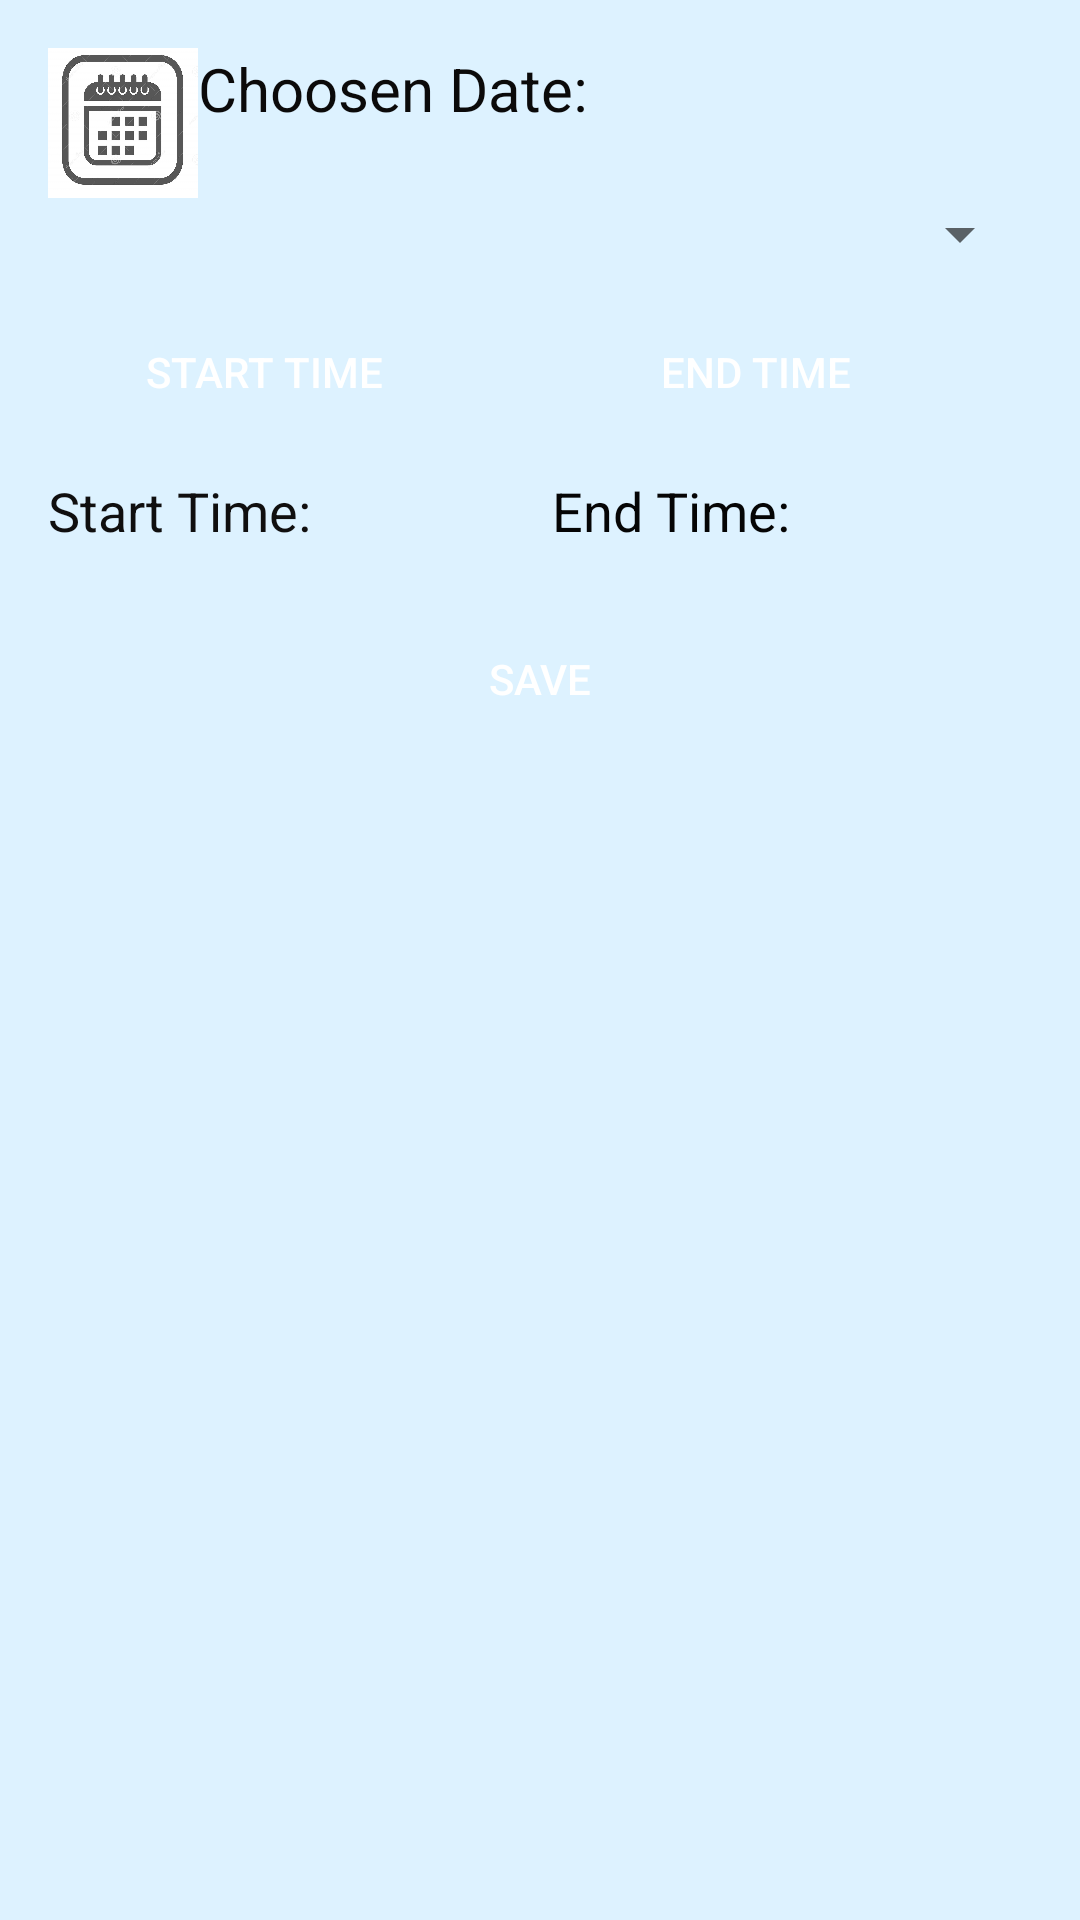

Named icons in this screenshot (1080px×1920px) and their centers, (x,y):
calendar: (123,123)
